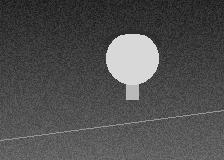no_helmet: (106, 30, 158, 89)
